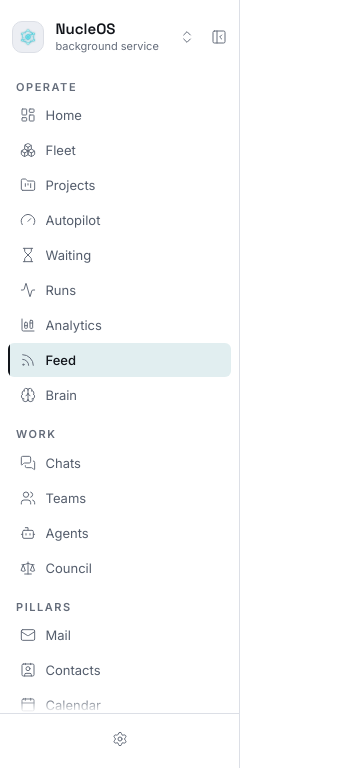
Test: Sidebar › project switcher › opens onto the search, then the núcleo, then the projects alphabetically
This screenshot has width=344, height=768.
Step 1. Click the button with aria-label "switch project" → coordinates (106, 37), box [8,12,203,61]
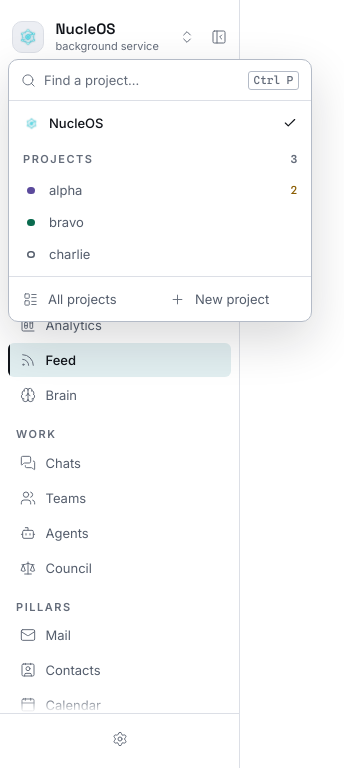
Expected: the element "Projects 3 alpha 2 bravo charlie" is shown, [15,139,305,270]
